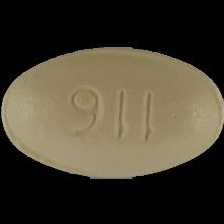57664-116: (0, 0, 224, 224)
